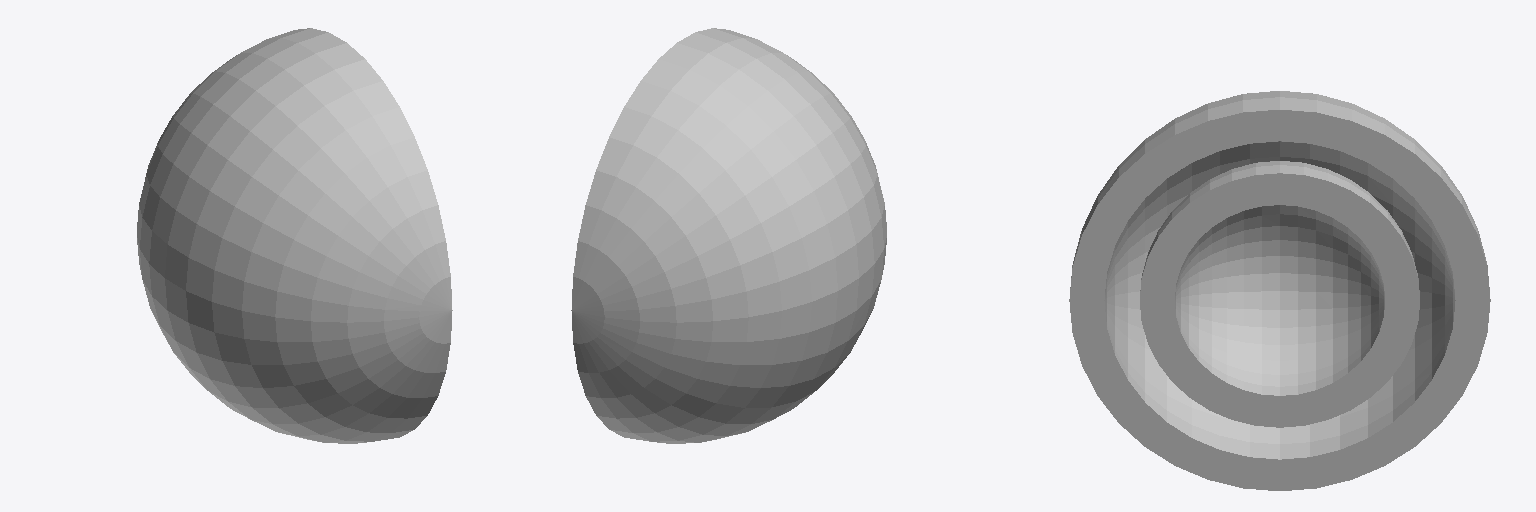
The model's file is nested_sphere_2.obj.
The picture shows the model from 3 angles: view 1: azimuth 30°, elevation 25°; view 2: azimuth 150°, elevation 25°; view 3: azimuth 270°, elevation 25°; orthographic projection.
Parts seen in each view (by area): view 1: obj_0; view 2: obj_0; view 3: obj_0.
Part boxes in pixels (x1,y1,x2,y2): obj_0: (137, 28, 452, 443); obj_0: (571, 28, 886, 443); obj_0: (1069, 91, 1490, 490).
Bounding box in the file's own units: 15 × 30 × 30.